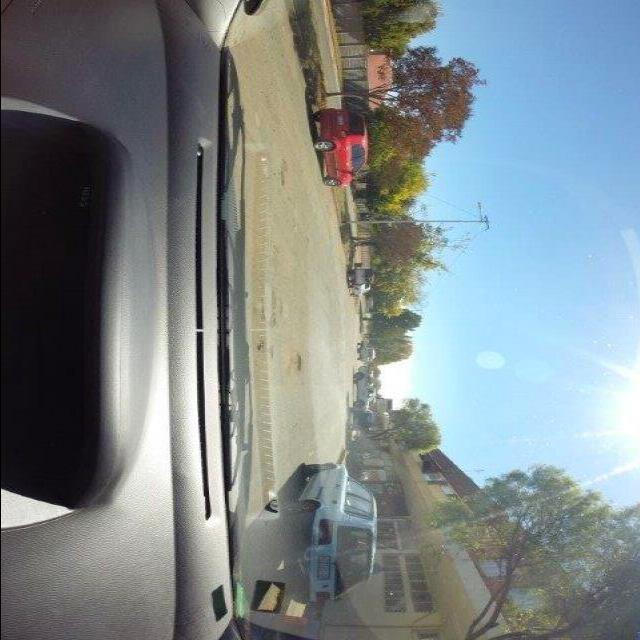jalan retak: (282, 418, 302, 438)
lubang: (266, 287, 288, 329), (276, 156, 292, 190), (293, 351, 307, 370)
